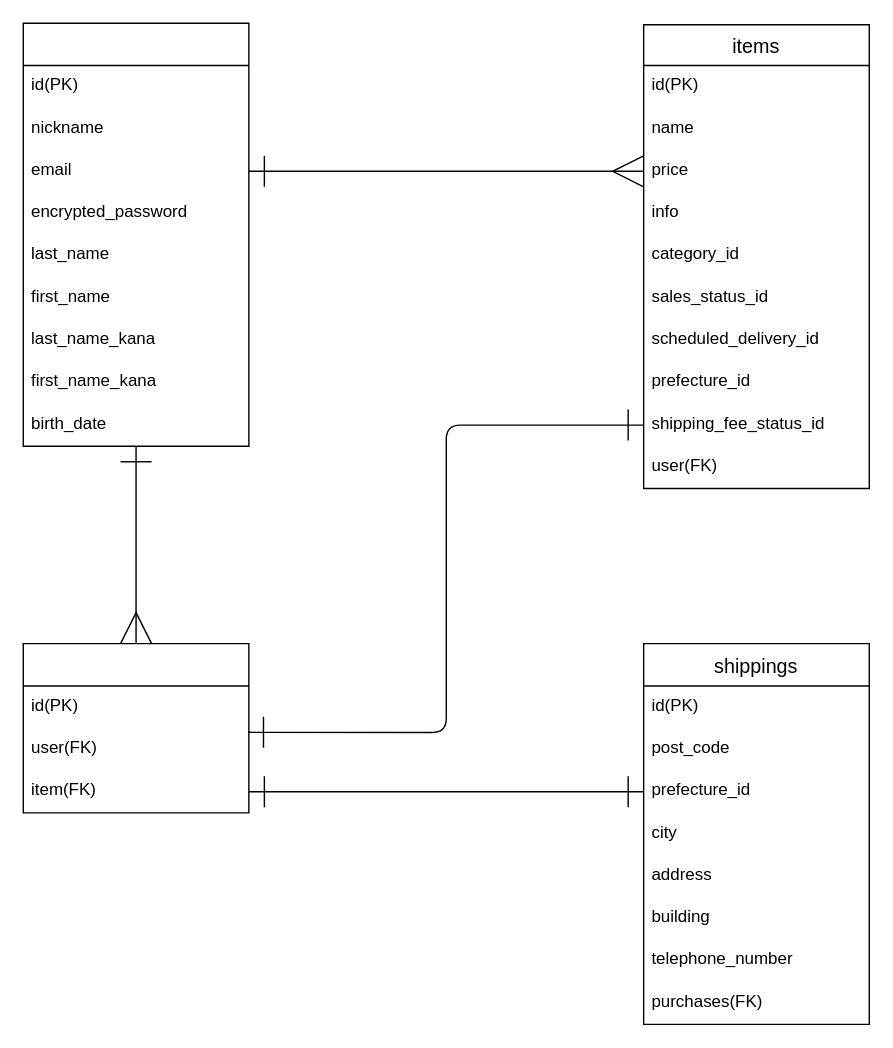
This 893x1048 diagram has some shape labels left out. The box of each missing label's shape, as (x1, y1, x2, y2) in pixels:
purchases: (22, 642, 249, 813)
users: (22, 22, 249, 446)
